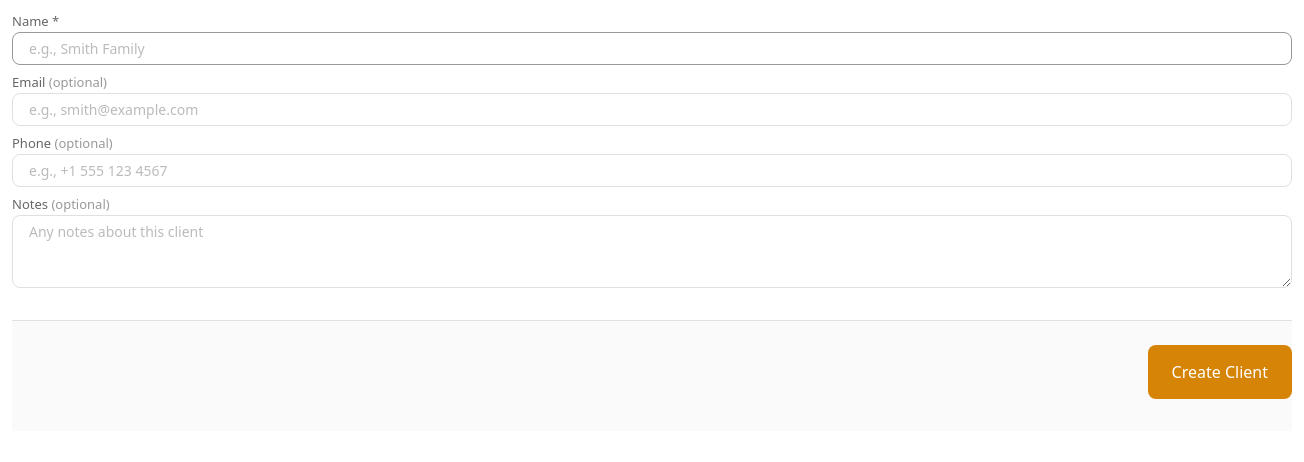
Scenario: CreateClient › shows error on invalid email format
Type "Alice Smith" into the field labelled "Name *". click: (652, 48)
box: [12,32,1292,65]
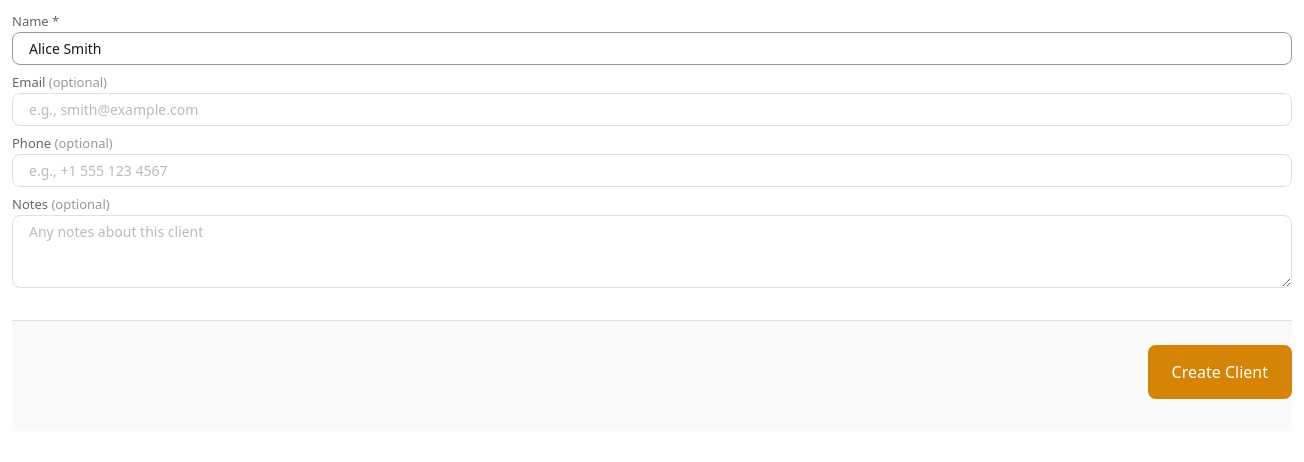
Type "notanemail" into the field labelled "Email (optional)". click: (652, 109)
box: [12,93,1292,126]
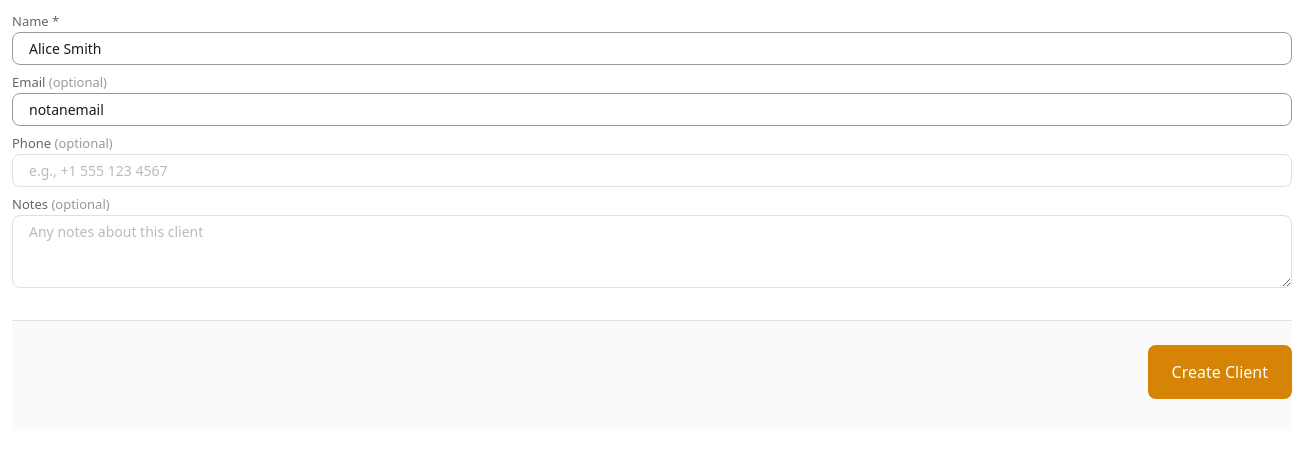
Click the button "Create Client". click: (1220, 372)
box: [1148,345,1292,399]
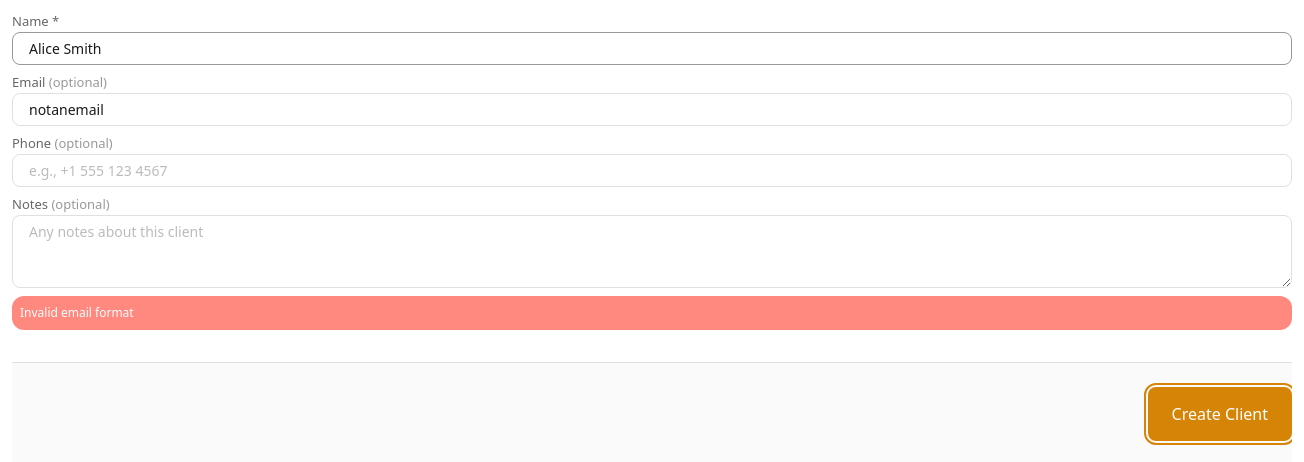
Now the text "Invalid email format" is shown, box [12,296,1292,330]
